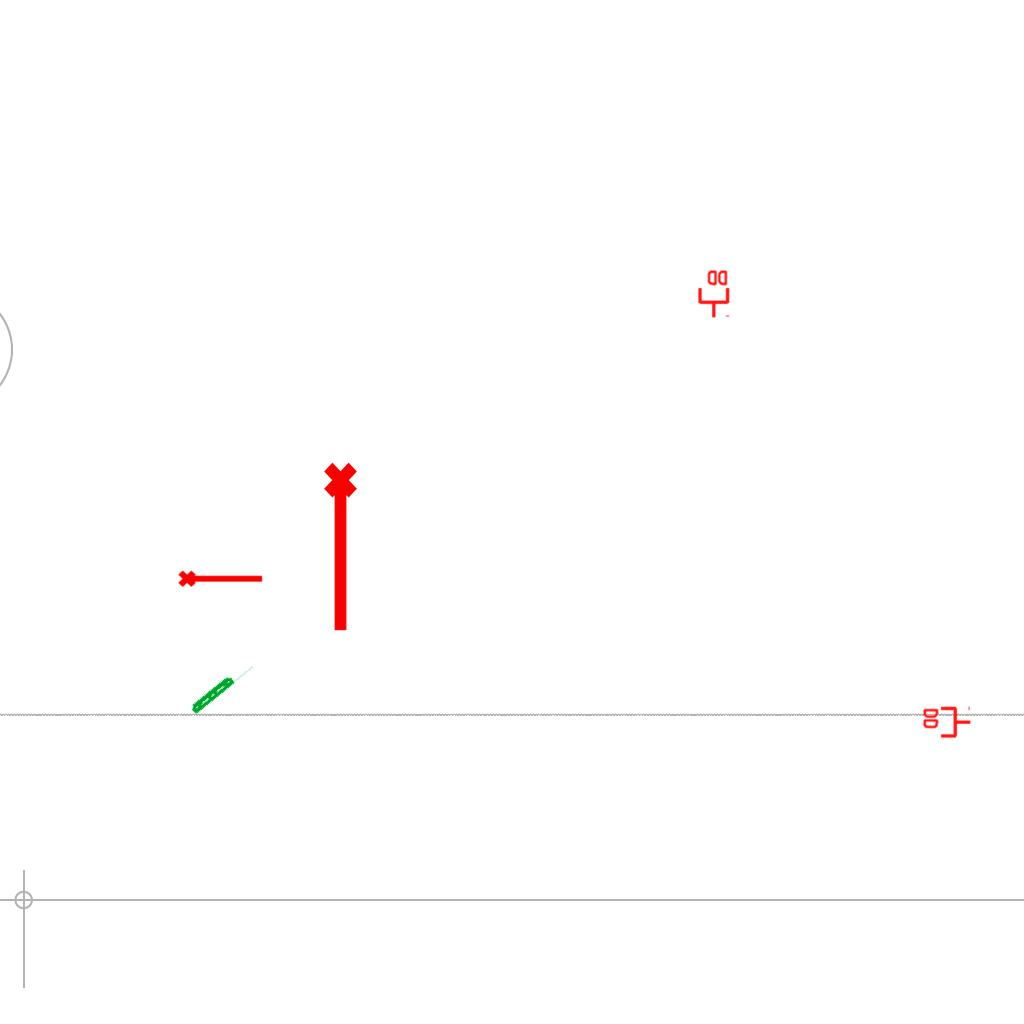ASR_Ansaugoeffnung: (320, 460, 366, 636), (177, 566, 265, 589)
Datenanschluss_zweifach: (921, 706, 972, 740), (696, 268, 730, 319)
Sicherheitsleuchte_Wandeinbau: (187, 656, 257, 717)
